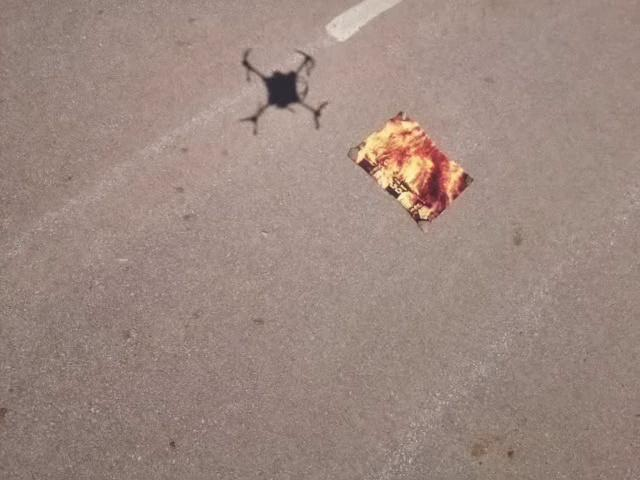fire-poster: (345, 108, 475, 233)
